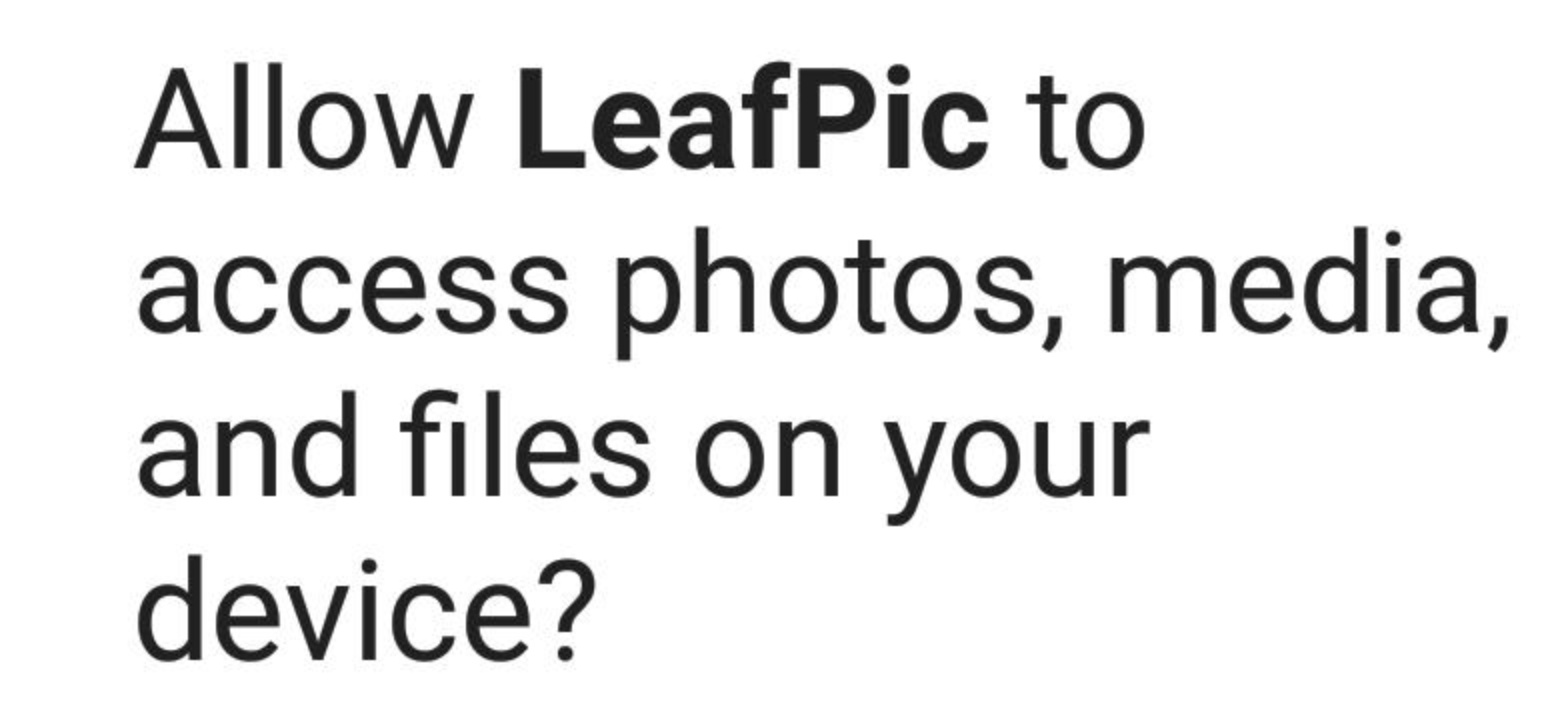TextView: (1, 1, 1551, 717)
